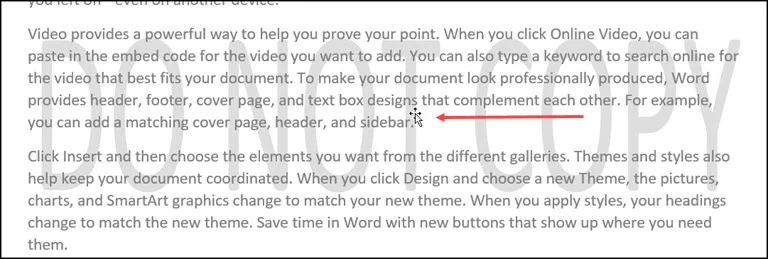DO NOT COPY: (28, 25, 743, 212)
the elements: (217, 145, 314, 166)
